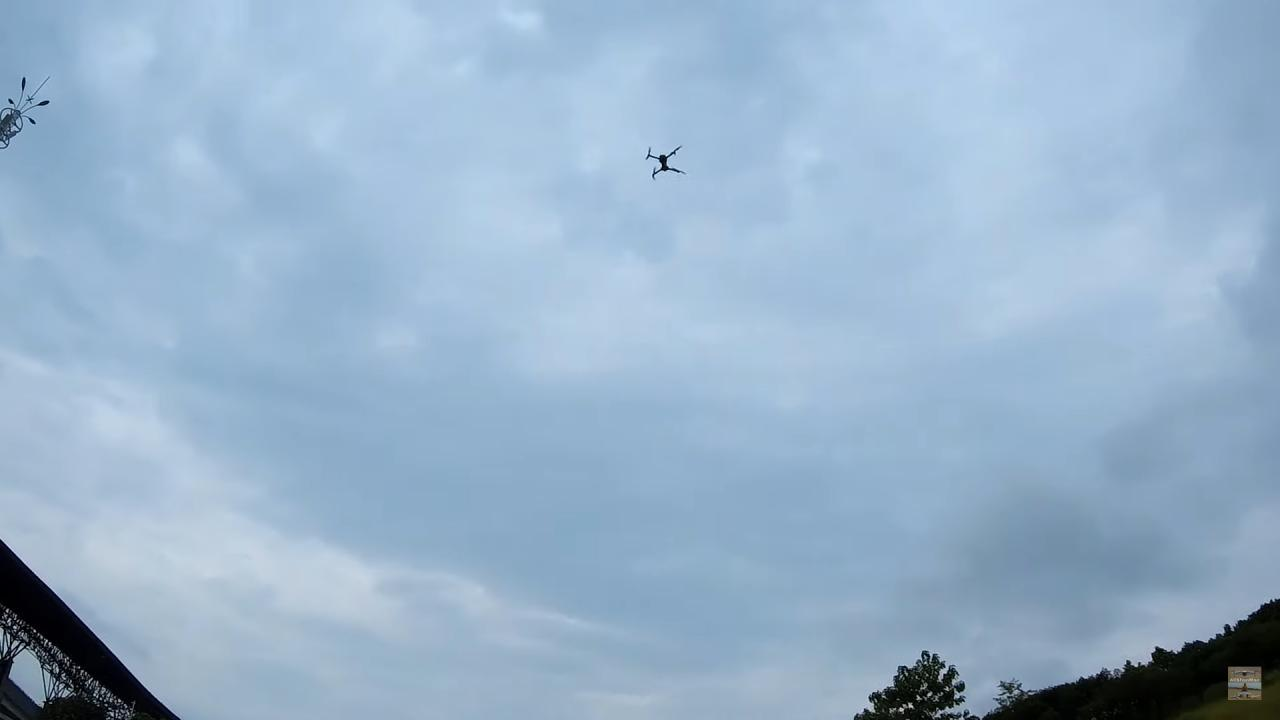Drone: (634, 140, 692, 187)
